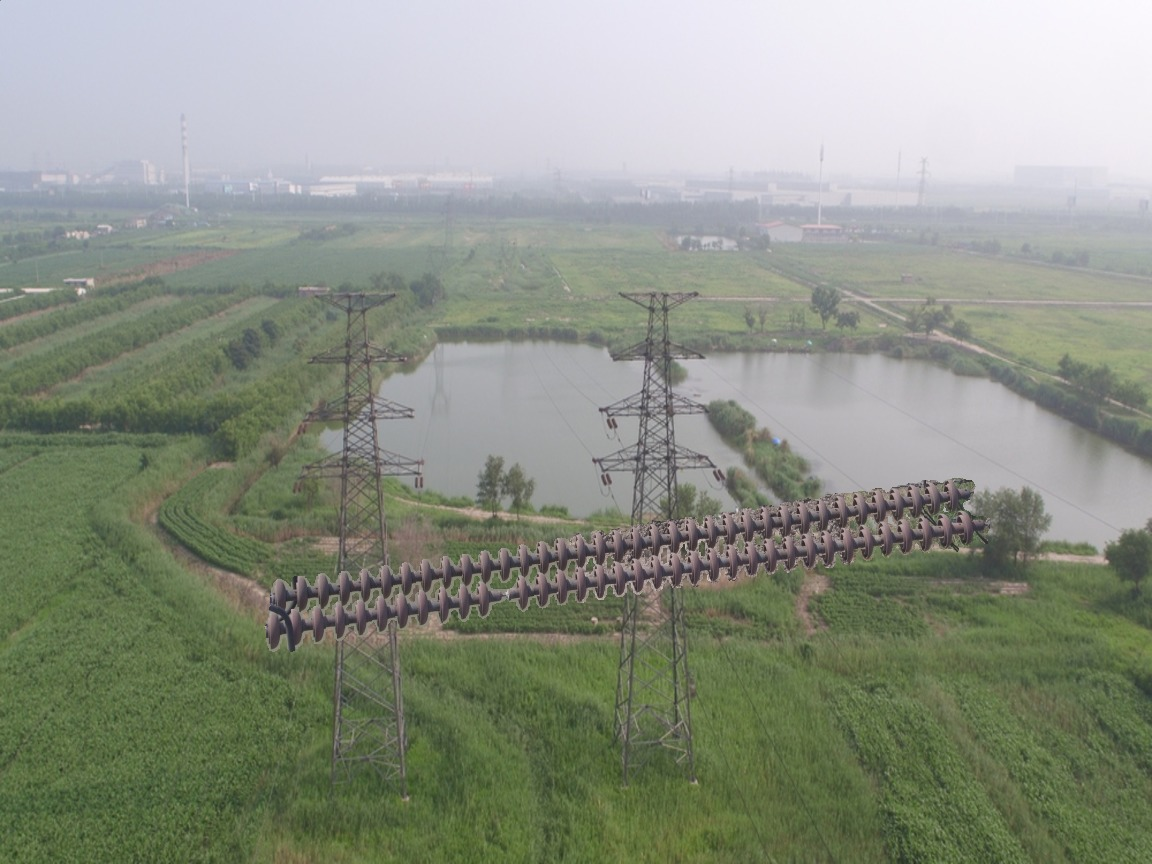defect: (470, 572, 535, 619)
